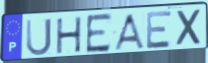A: (112, 13, 147, 52)
E: (85, 12, 113, 56), (145, 10, 173, 51)
H: (55, 15, 83, 55)
U: (25, 17, 53, 58)
X: (175, 8, 204, 49)
